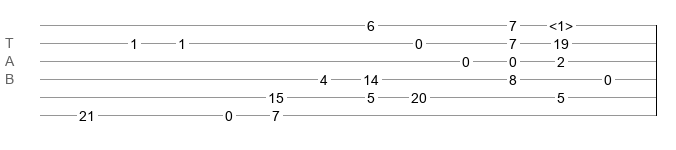0: (225, 108, 233, 118), (415, 36, 423, 46), (462, 54, 470, 64), (509, 54, 517, 64), (604, 72, 612, 82)
1: (130, 36, 138, 46), (178, 36, 186, 46)
14: (363, 72, 379, 82)
15: (268, 90, 284, 100)
19: (553, 36, 569, 46)
2: (557, 54, 565, 64)
20: (411, 90, 427, 100)
21: (79, 108, 95, 118)
4: (320, 72, 328, 82)
5: (367, 90, 375, 100), (557, 90, 565, 100)
6: (367, 18, 375, 28)
7: (272, 108, 280, 118), (509, 18, 517, 28), (509, 36, 517, 46)
8: (509, 72, 517, 82)
harmonic: (549, 18, 573, 28)
